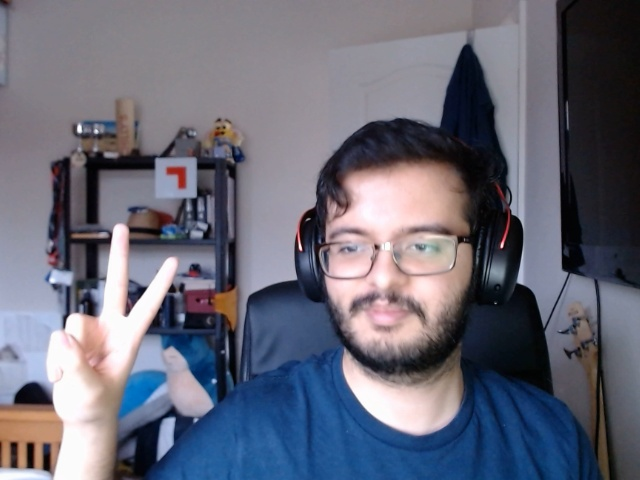Peace: (25, 212, 194, 438)
